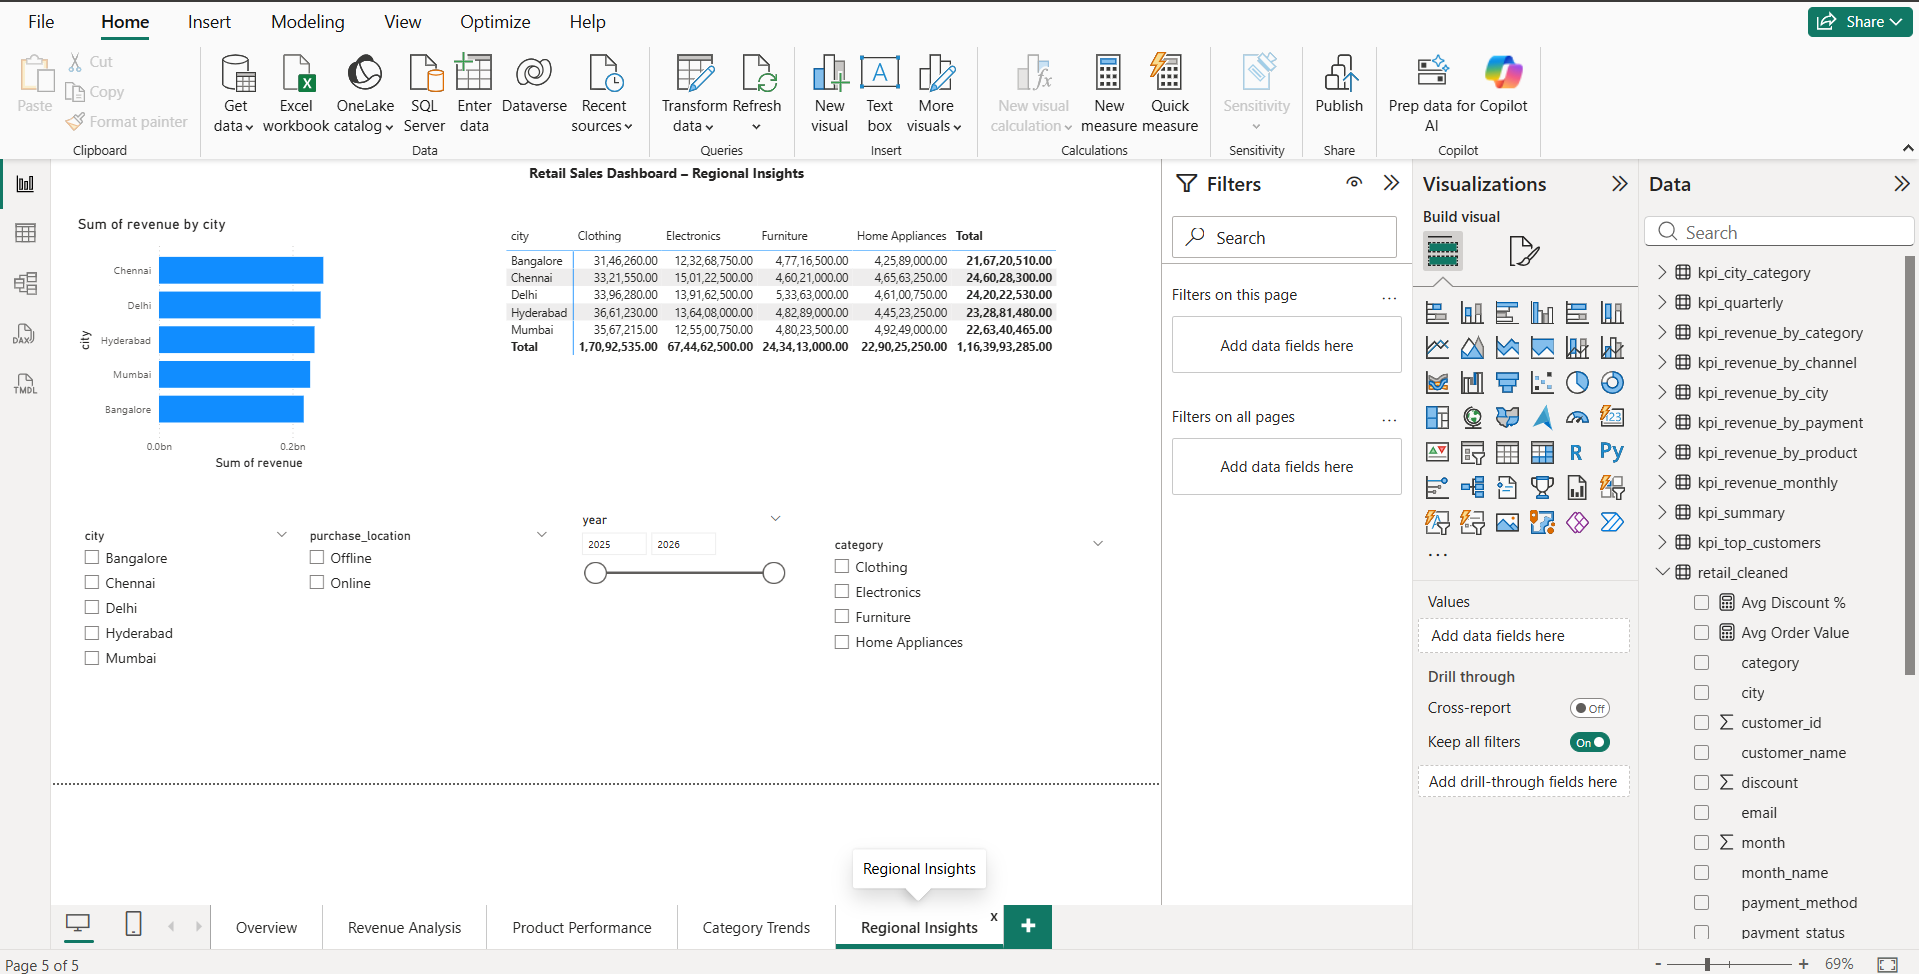

The page's visual inventory and layout, read from the dashboard file:
{"tool":"powerbi","page":{"name":"Regional Insights","canvas":[1280,720],"ordinal":4},"visuals":[{"type":"textbox","box":[546.1,0,344.4,64.5],"z":0},{"type":"barChart","fields":{"Category":["retail_cleaned.city"],"Y":["Sum(retail_cleaned.revenue)"]},"box":[26.1,64.5,349.9,299.1],"z":1000},{"type":"pivotTable","fields":{"Rows":["retail_cleaned.city"],"Columns":["retail_cleaned.category"],"Values":["Sum(retail_cleaned.revenue)"]},"box":[520.5,72.1,696.4,282.6],"z":2000},{"type":"slicer","fields":{"Values":["retail_cleaned.city"]},"box":[26,421,259.5,298.4],"z":3000},{"type":"slicer","fields":{"Values":["retail_cleaned.purchase_location"]},"box":[285.5,421,299.9,298.4],"z":4000},{"type":"slicer","fields":{"Values":["retail_cleaned.year"]},"box":[599.8,402.3,255.2,298.4],"z":5000},{"type":"slicer","fields":{"Values":["retail_cleaned.category"]},"box":[891,431.1,335.9,288.4],"z":6000}]}

Visuals, with their boxes on the page's 1280x720 design canvas (x1, y1, x2, y2). These are canvas units, not pixel positions in the 1919x974 screenshot, which may show the page scaled, cropped or inside an application window:
textbox: <box>546,0,890,64</box>
barChart - retail_cleaned.city x Sum(retail_cleaned.revenue): <box>26,64,376,364</box>
pivotTable - retail_cleaned.city x retail_cleaned.category: <box>520,72,1217,355</box>
slicer - retail_cleaned.city: <box>26,421,286,719</box>
slicer - retail_cleaned.purchase_location: <box>286,421,585,719</box>
slicer - retail_cleaned.year: <box>600,402,855,701</box>
slicer - retail_cleaned.category: <box>891,431,1227,720</box>
